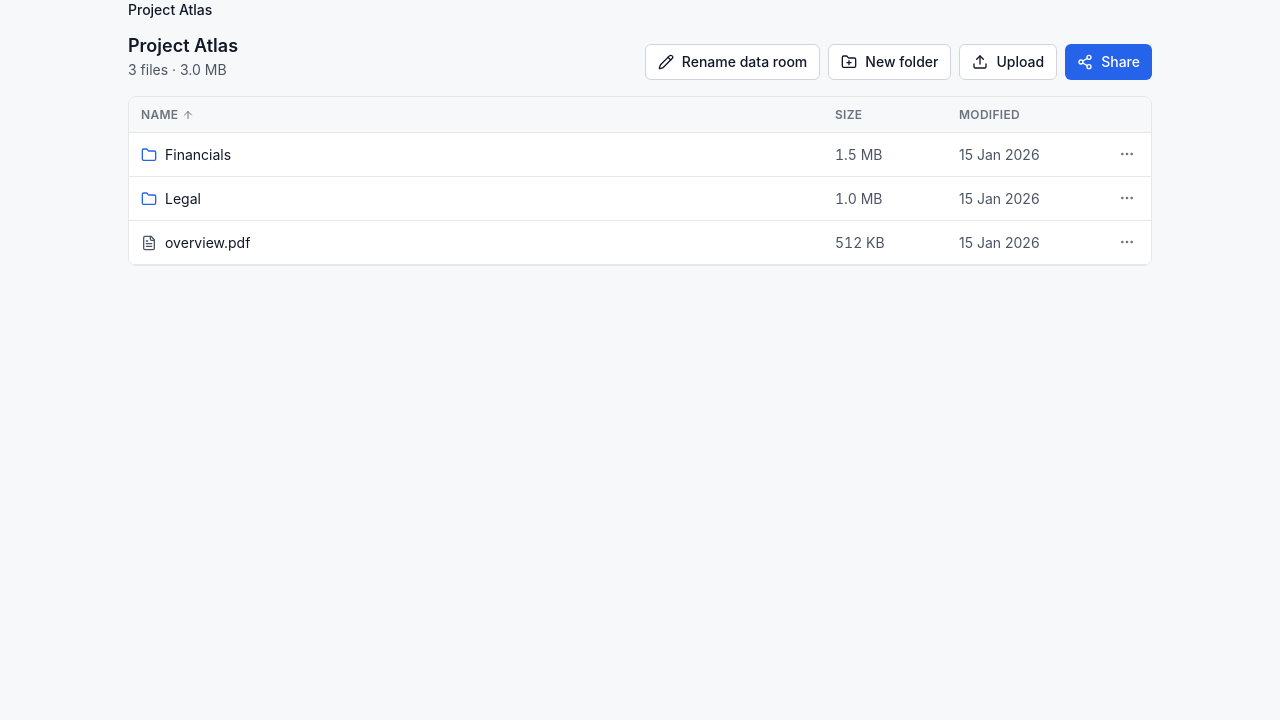
Test: FolderPage › renames an owned data room from its root folder
expect the heading "Project Atlas" is shown: met, box [128,32,238,60]
Click the button "Rename data room": point(733, 62) [645,44,820,80]
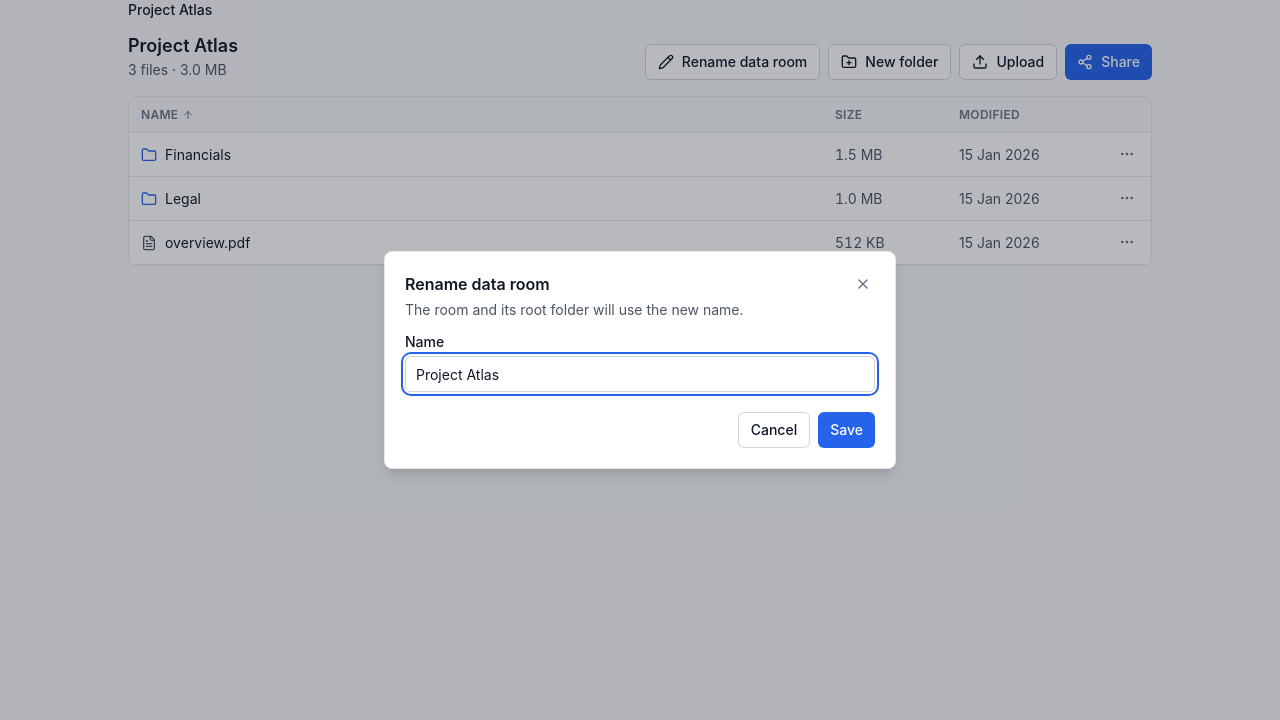
expect the field labelled "Name" holds "Project Atlas": met
Replace the text in the field labelled "Name" with "Project Aurora": point(640, 374) [405,356,875,392]
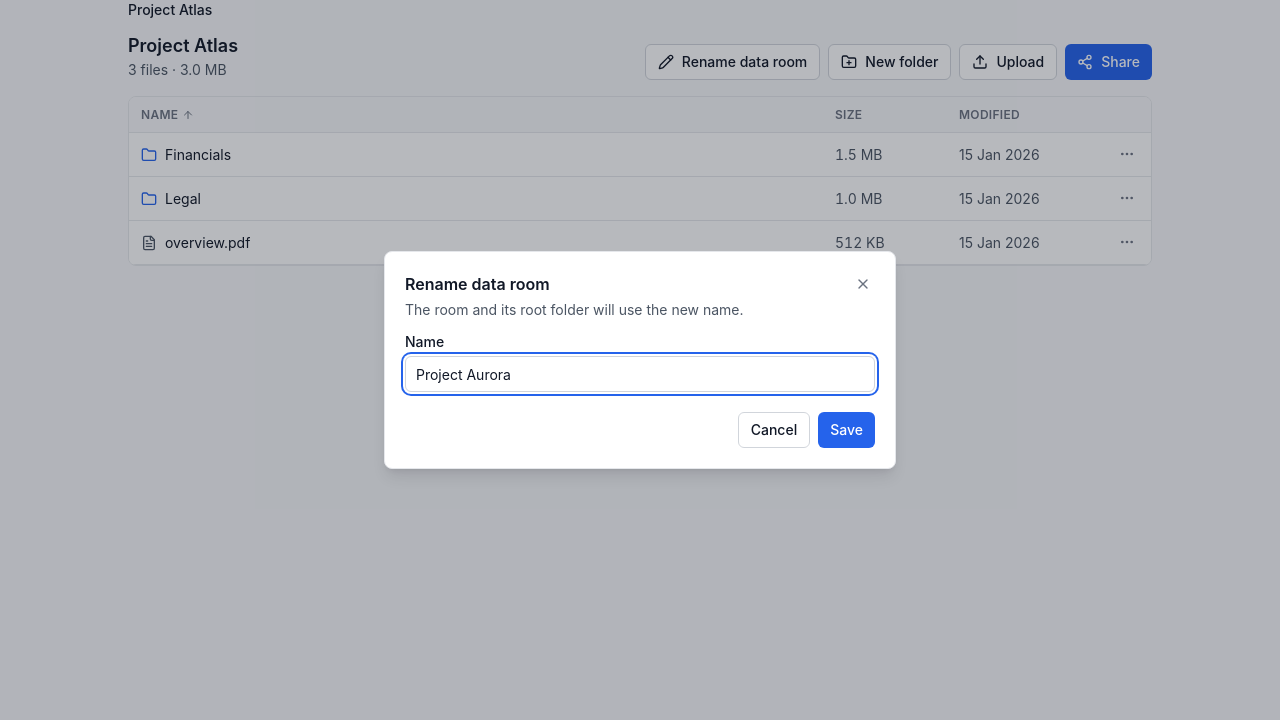
Click the button "Save": point(847, 430) [818,412,875,448]
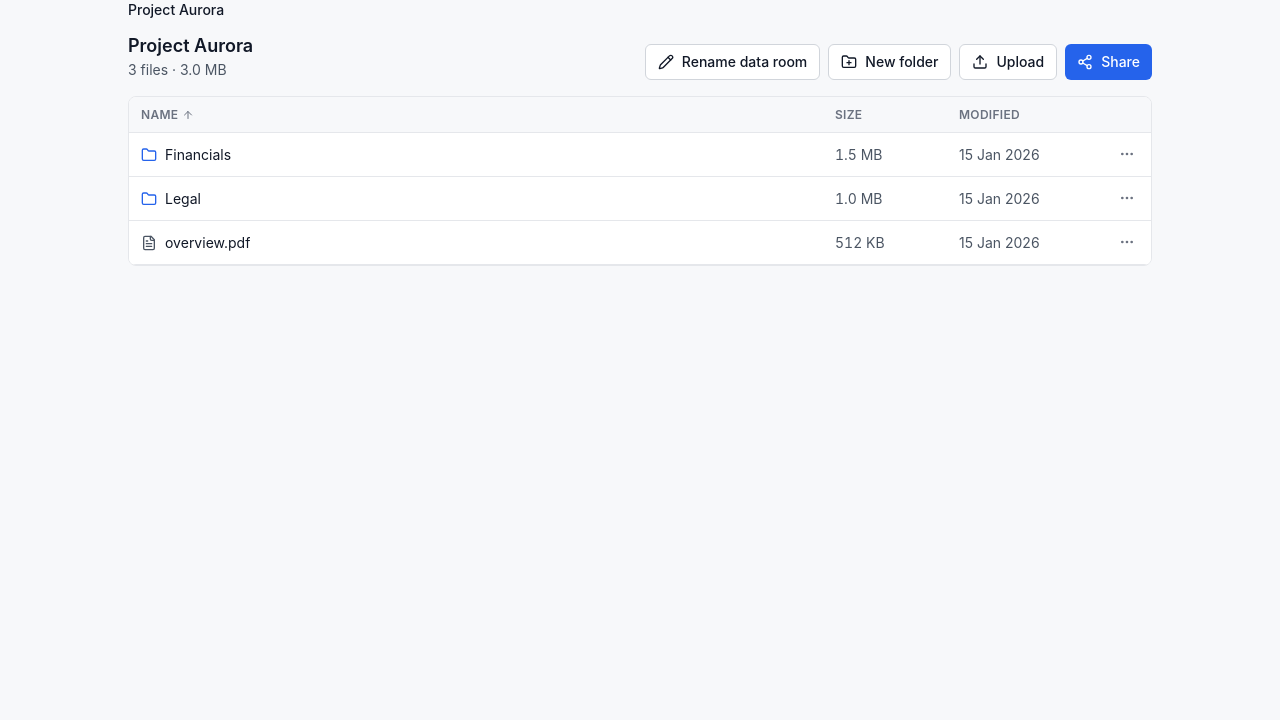
expect the heading "Project Aurora" is shown: met, box [128,32,253,60]
expect the text "Project Aurora" is shown: met, box [128,0,224,20]
